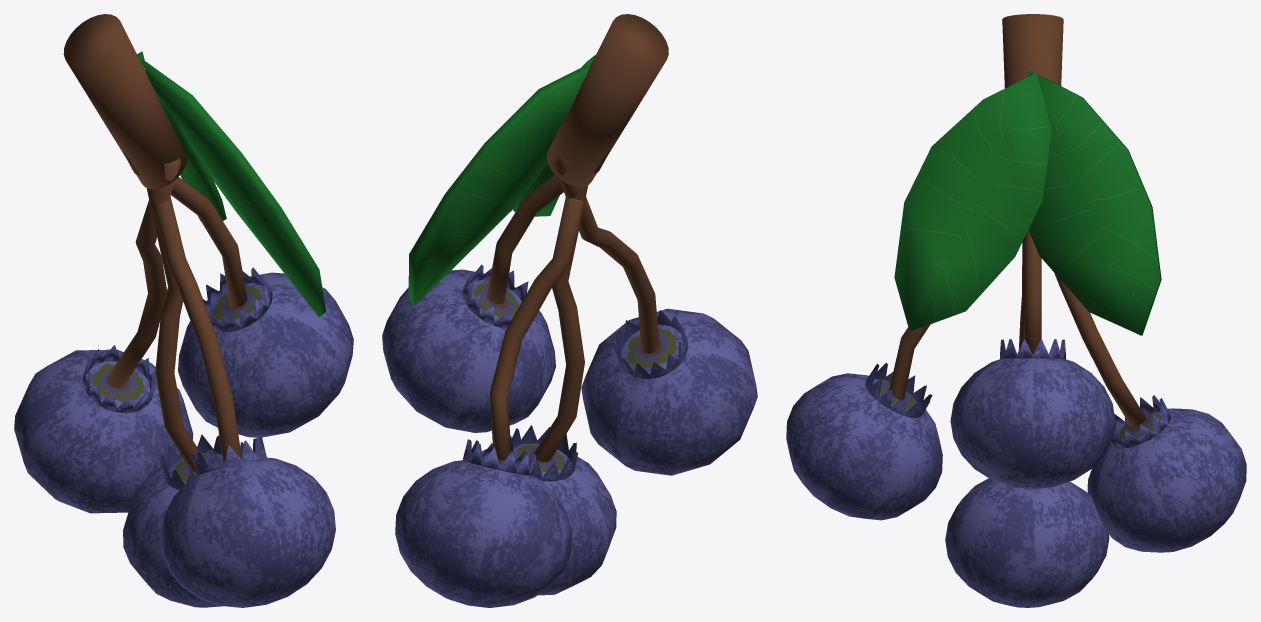
File: blueberry.fbx
3 views of the same model, side by side, from view 1: azimuth 30°, elevation 25°; view 2: azimuth 150°, elevation 25°; view 3: azimuth 270°, elevation 25° (orthographic). The views are drawn at different scales.
Visible parts, largest first — view 1: Cylinder.003, Sphere.002, Sphere, Cylinder, Cylinder.002, Cube, Cube.001; view 2: Sphere.002, Cylinder.003, Sphere, Cube.001, Cylinder.002, Cylinder, Cube; view 3: Cube, Cube.001, Sphere.002, Sphere, Cylinder.003, Cylinder.002, Cylinder.
Boxes of the visible parts, <box> form: Cylinder.003: <box>154,196,335,607</box>; Sphere.002: <box>14,158,193,513</box>; Sphere: <box>122,150,353,437</box>; Cylinder: <box>63,14,187,189</box>; Cylinder.002: <box>123,188,222,607</box>; Cube: <box>140,59,325,317</box>; Cube.001: <box>137,51,226,220</box>; Sphere.002: <box>395,197,583,607</box>; Cylinder.003: <box>551,153,757,475</box>; Sphere: <box>382,149,610,432</box>; Cube.001: <box>408,62,592,305</box>; Cylinder.002: <box>481,185,616,595</box>; Cylinder: <box>546,14,668,187</box>; Cube: <box>513,55,595,216</box>; Cube: <box>894,73,1051,331</box>; Cube.001: <box>1027,70,1161,335</box>; Sphere.002: <box>1054,272,1246,552</box>; Sphere: <box>950,230,1115,488</box>; Cylinder.003: <box>786,324,942,520</box>; Cylinder.002: <box>945,239,1109,607</box>; Cylinder: <box>1002,14,1063,88</box>.
Size of the model in its own units: 347 by 731 by 558.
